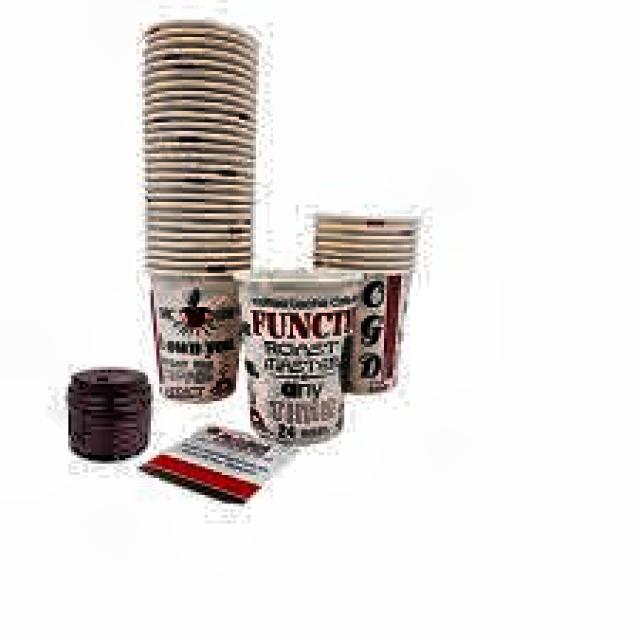Cup: (136, 21, 259, 408), (231, 262, 369, 460), (308, 200, 414, 400)
